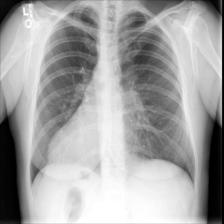normal: (27, 1, 199, 197)
